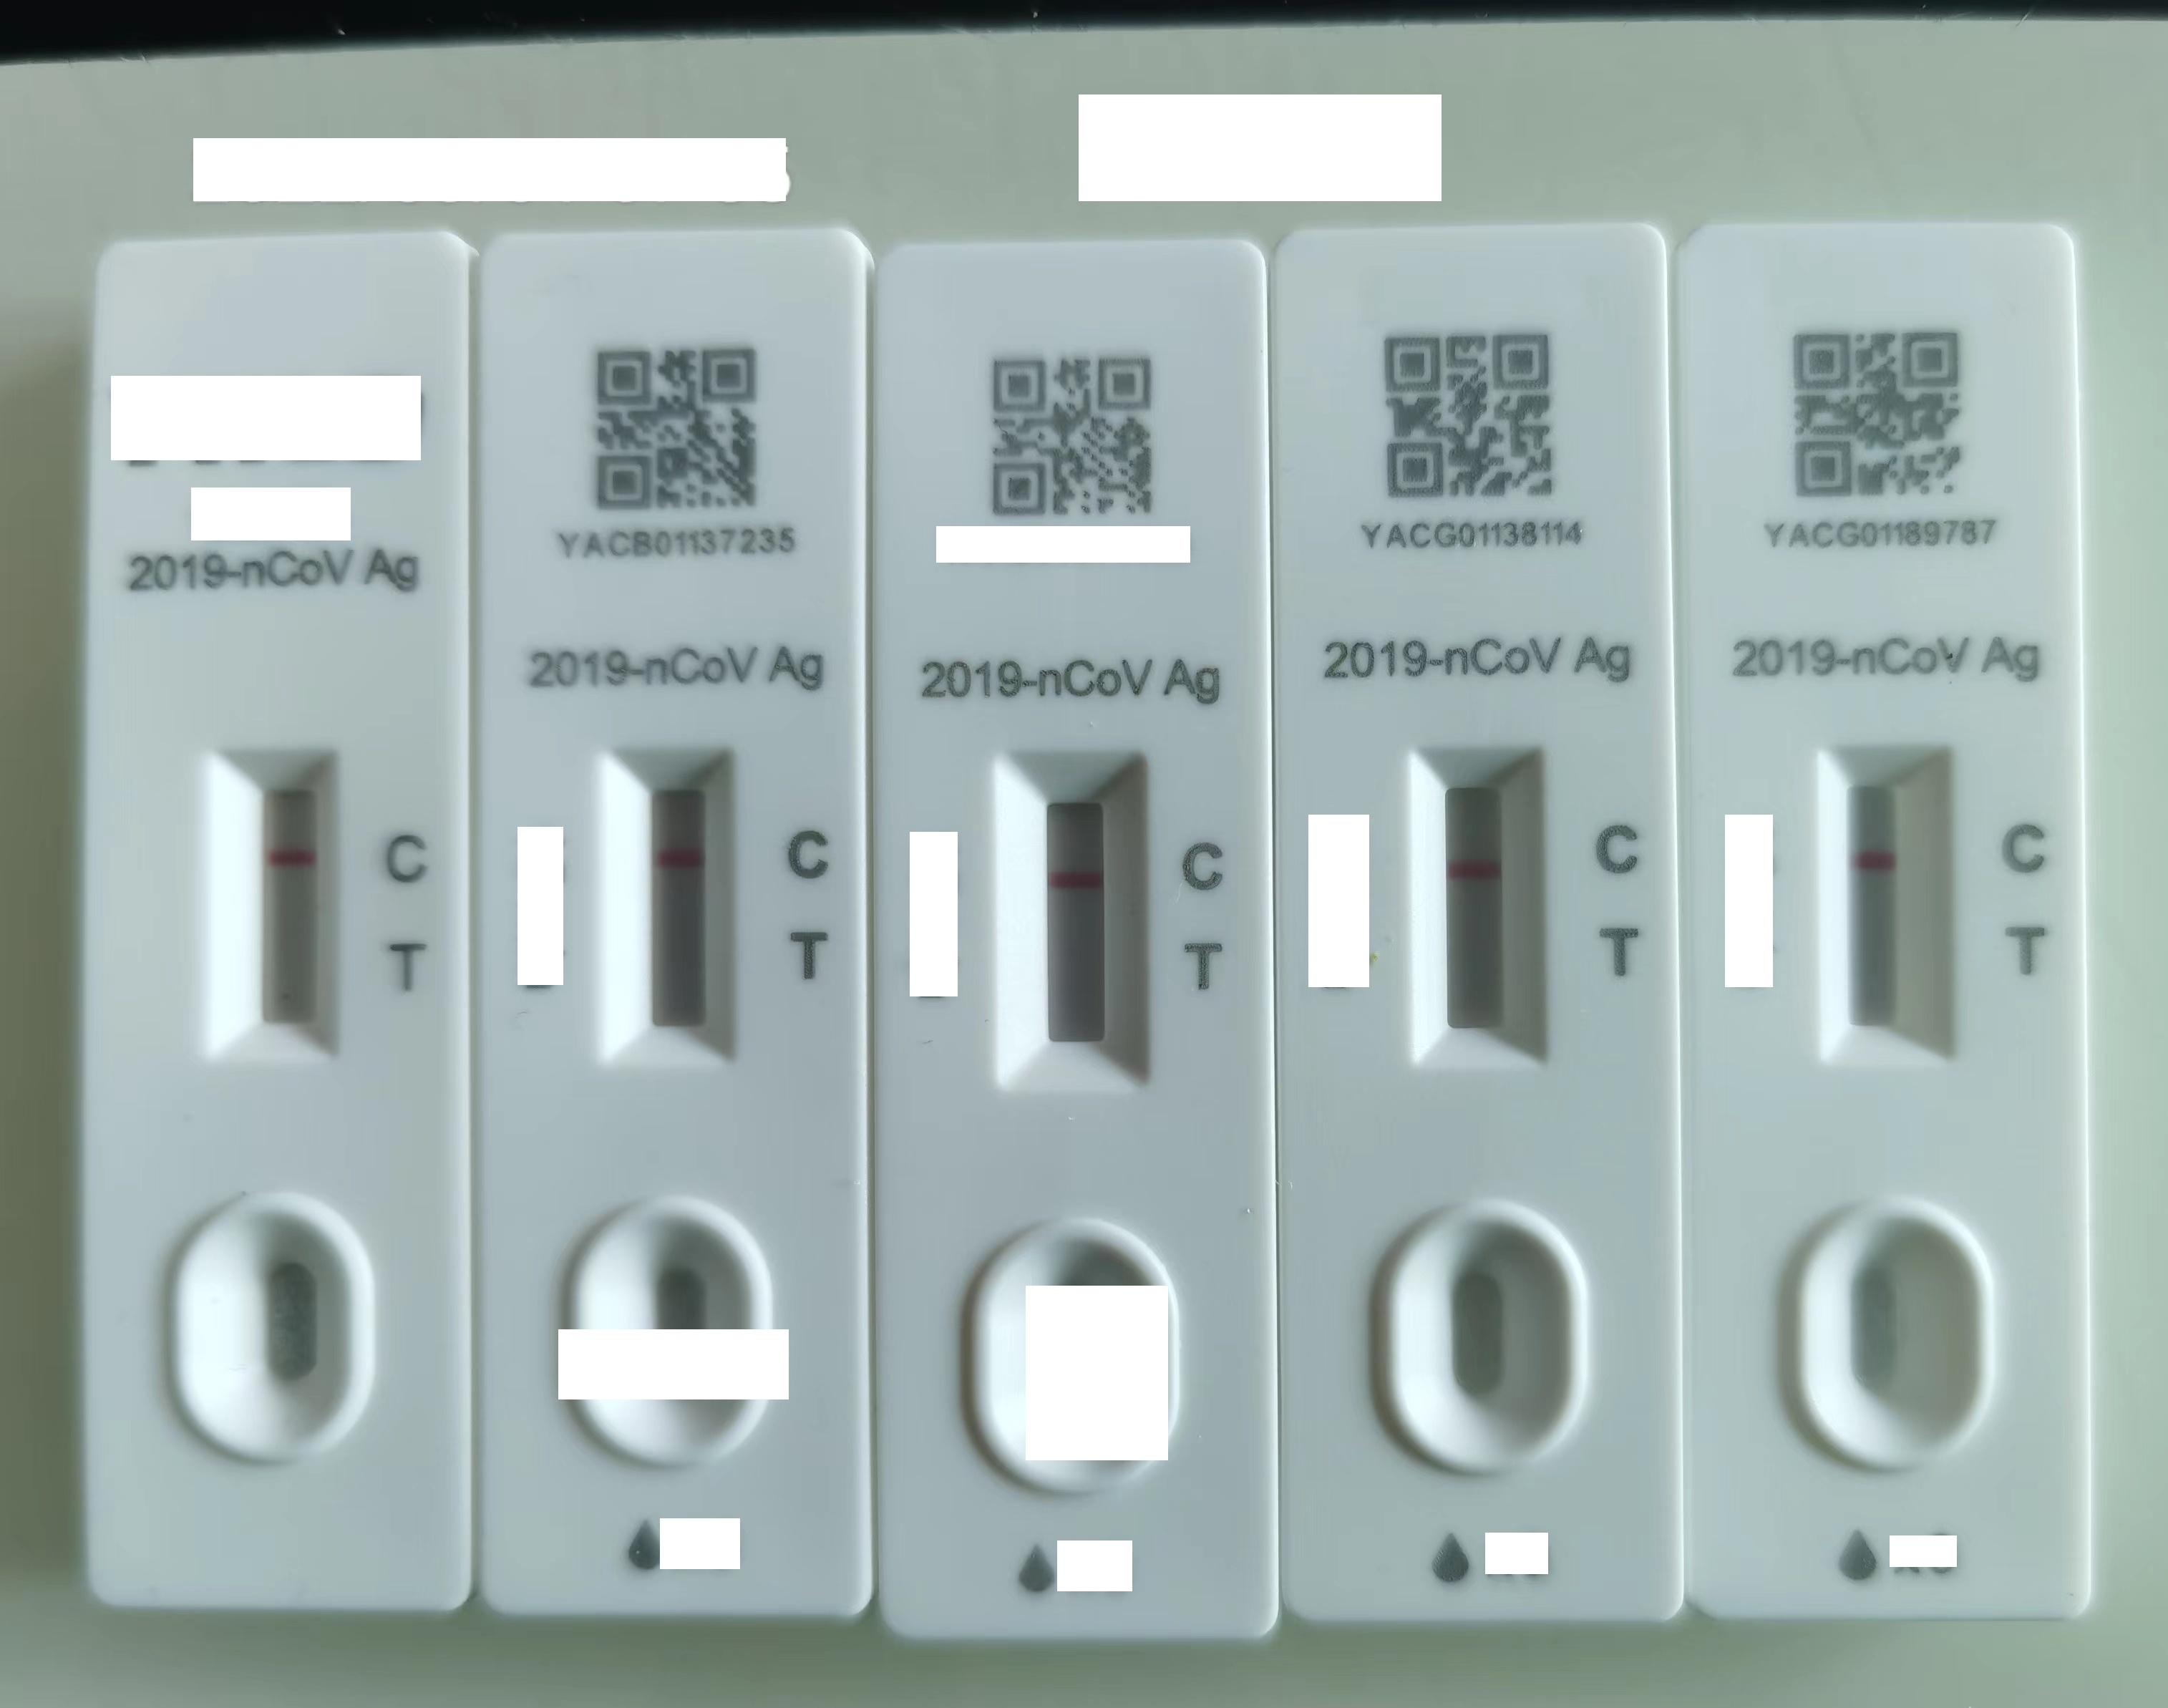negative: (1008, 743, 1149, 1093), (206, 738, 345, 1067), (1823, 738, 1960, 1071), (1418, 738, 1549, 1072), (611, 738, 739, 1067)
